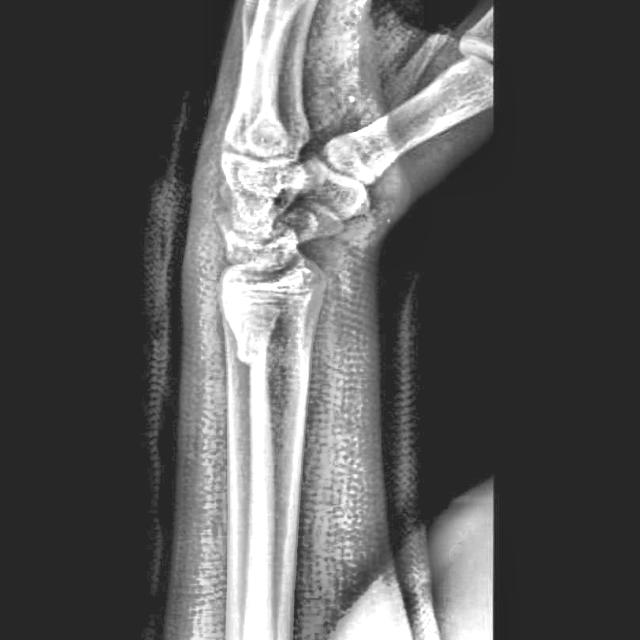line: (233, 349, 268, 373)
